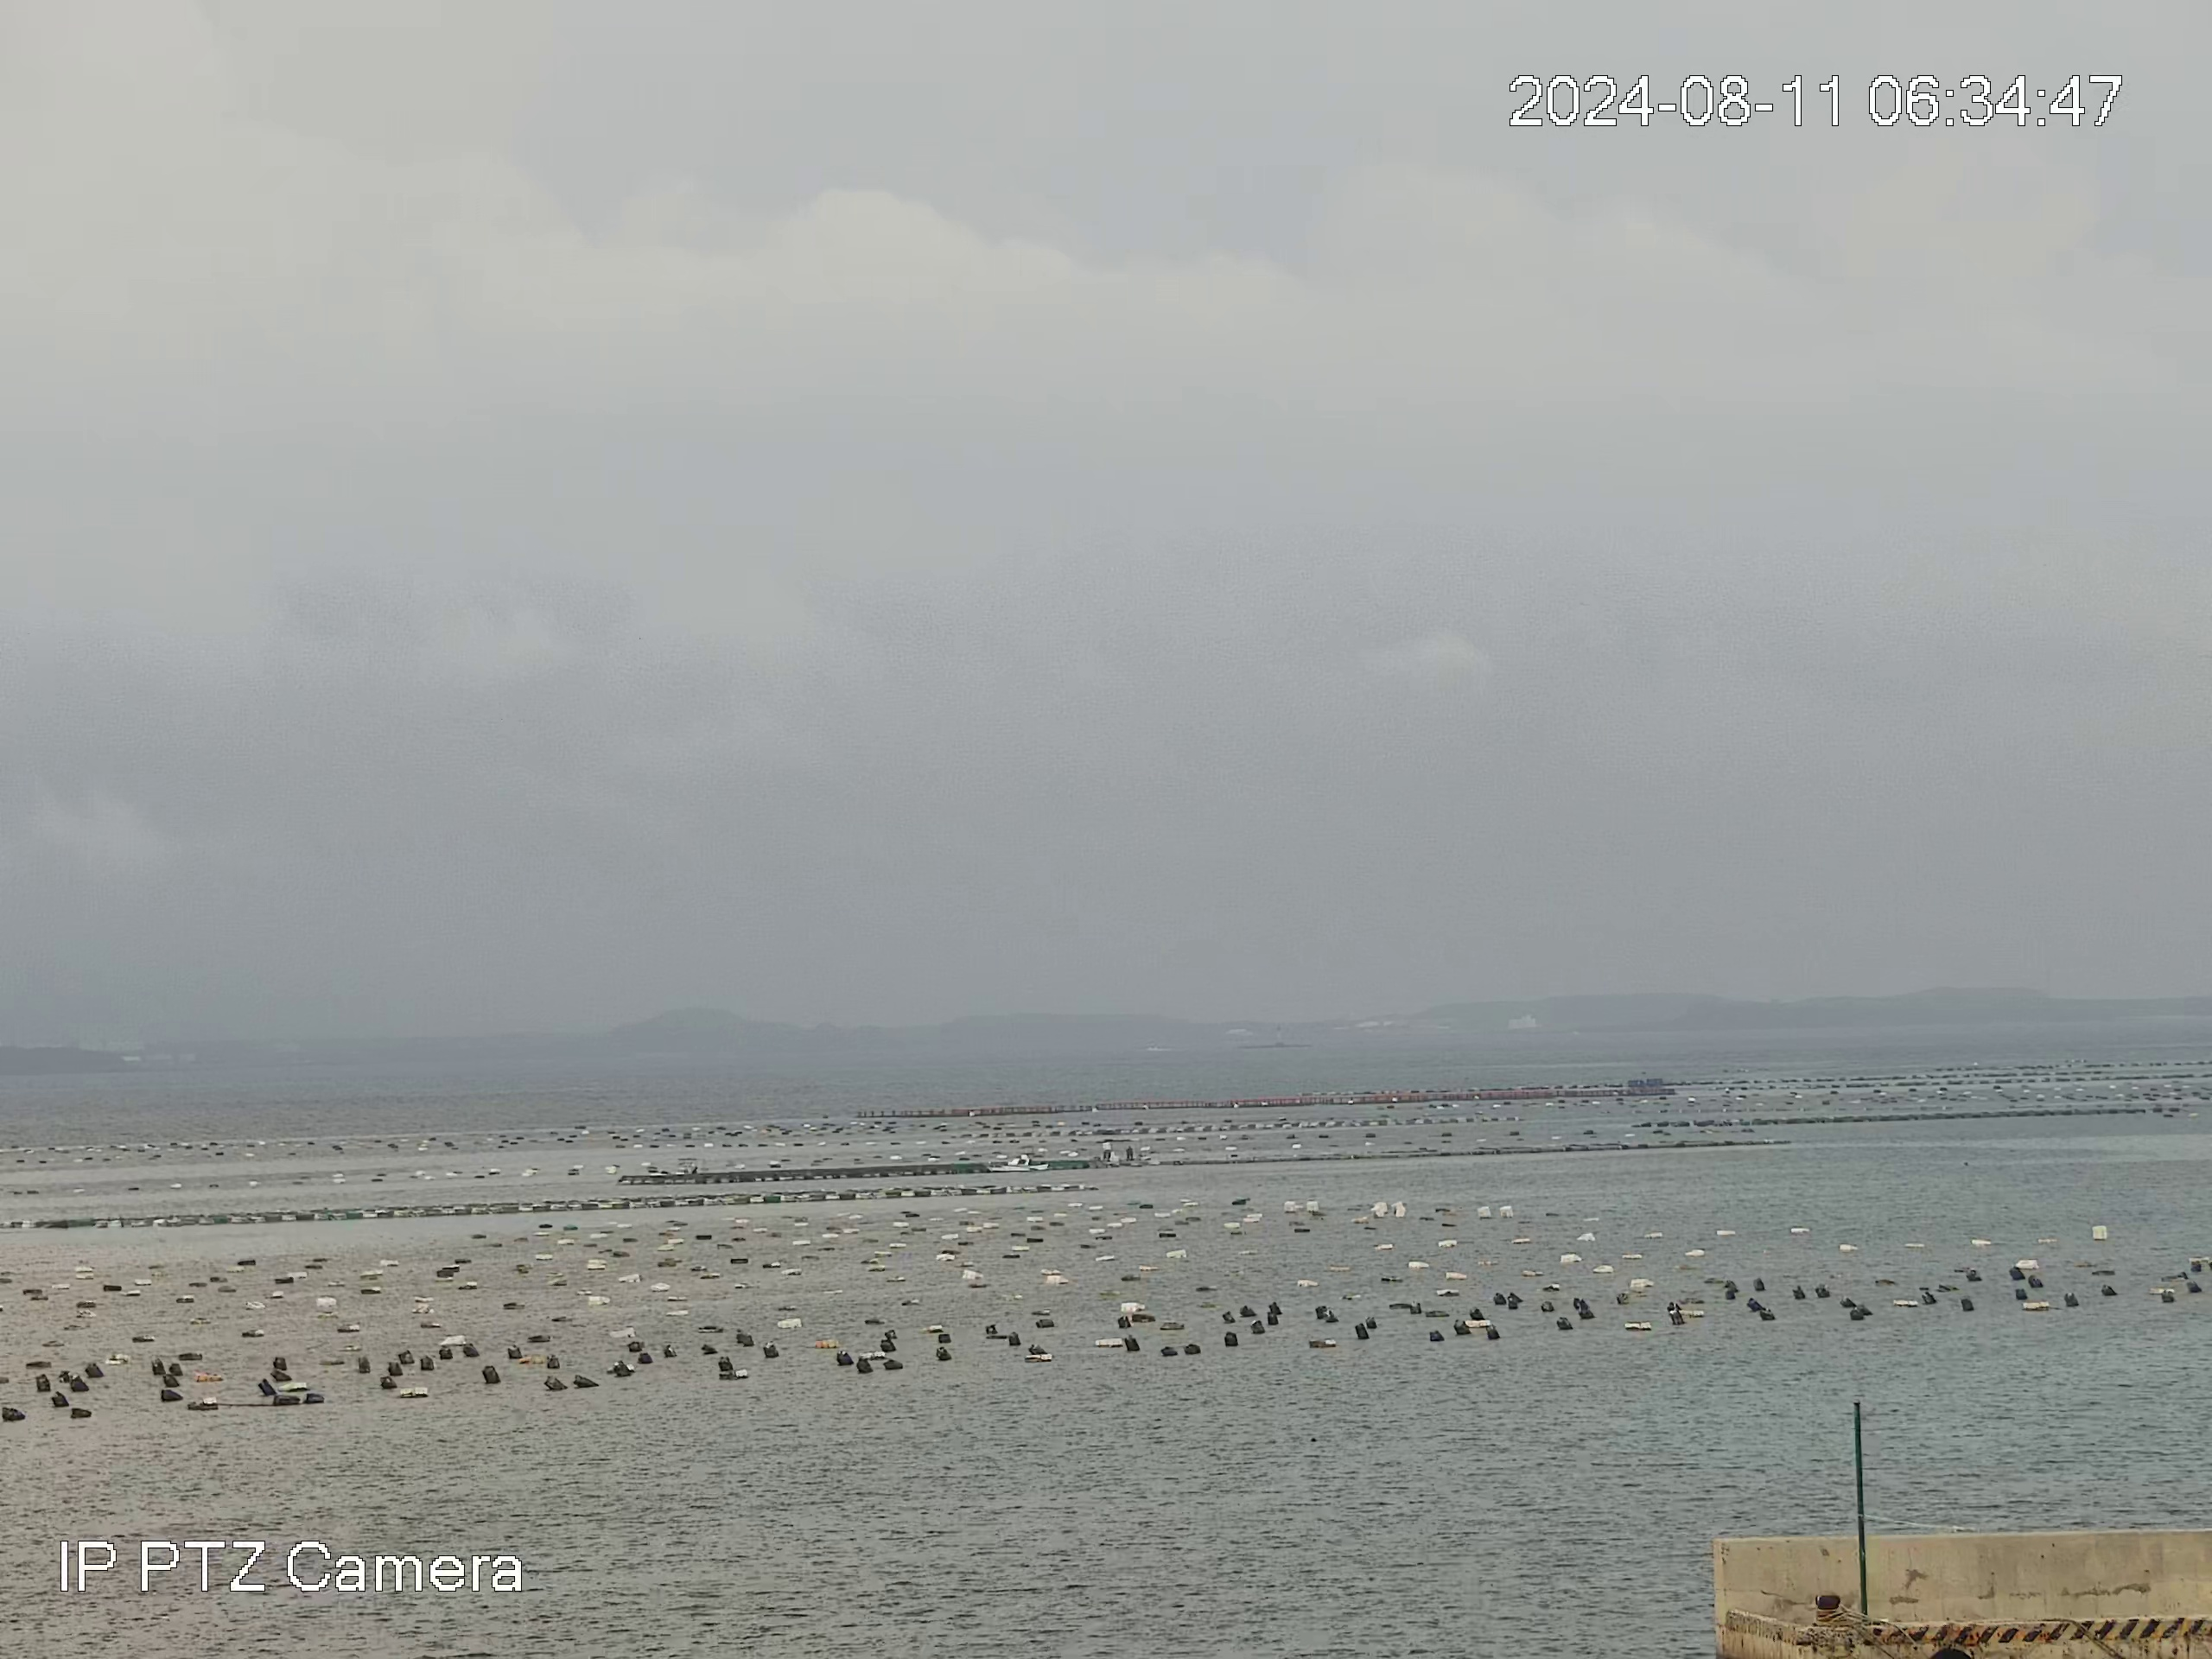boat: (986, 1152, 1050, 1173)
